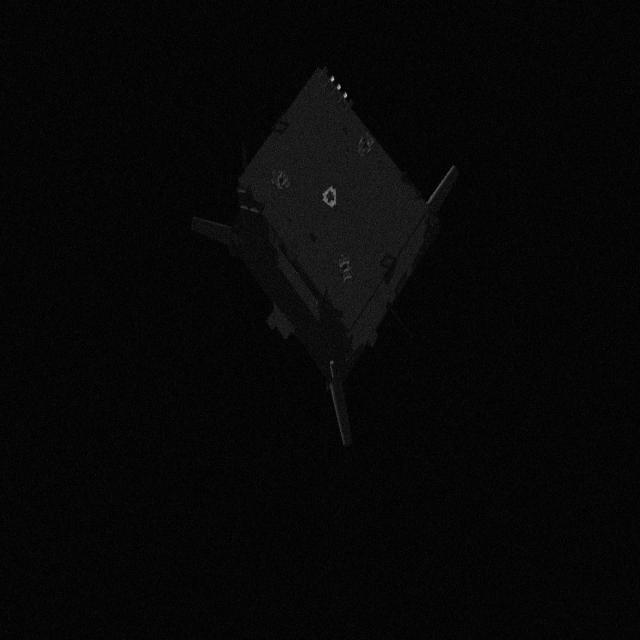satellite: (192, 62, 458, 444)
